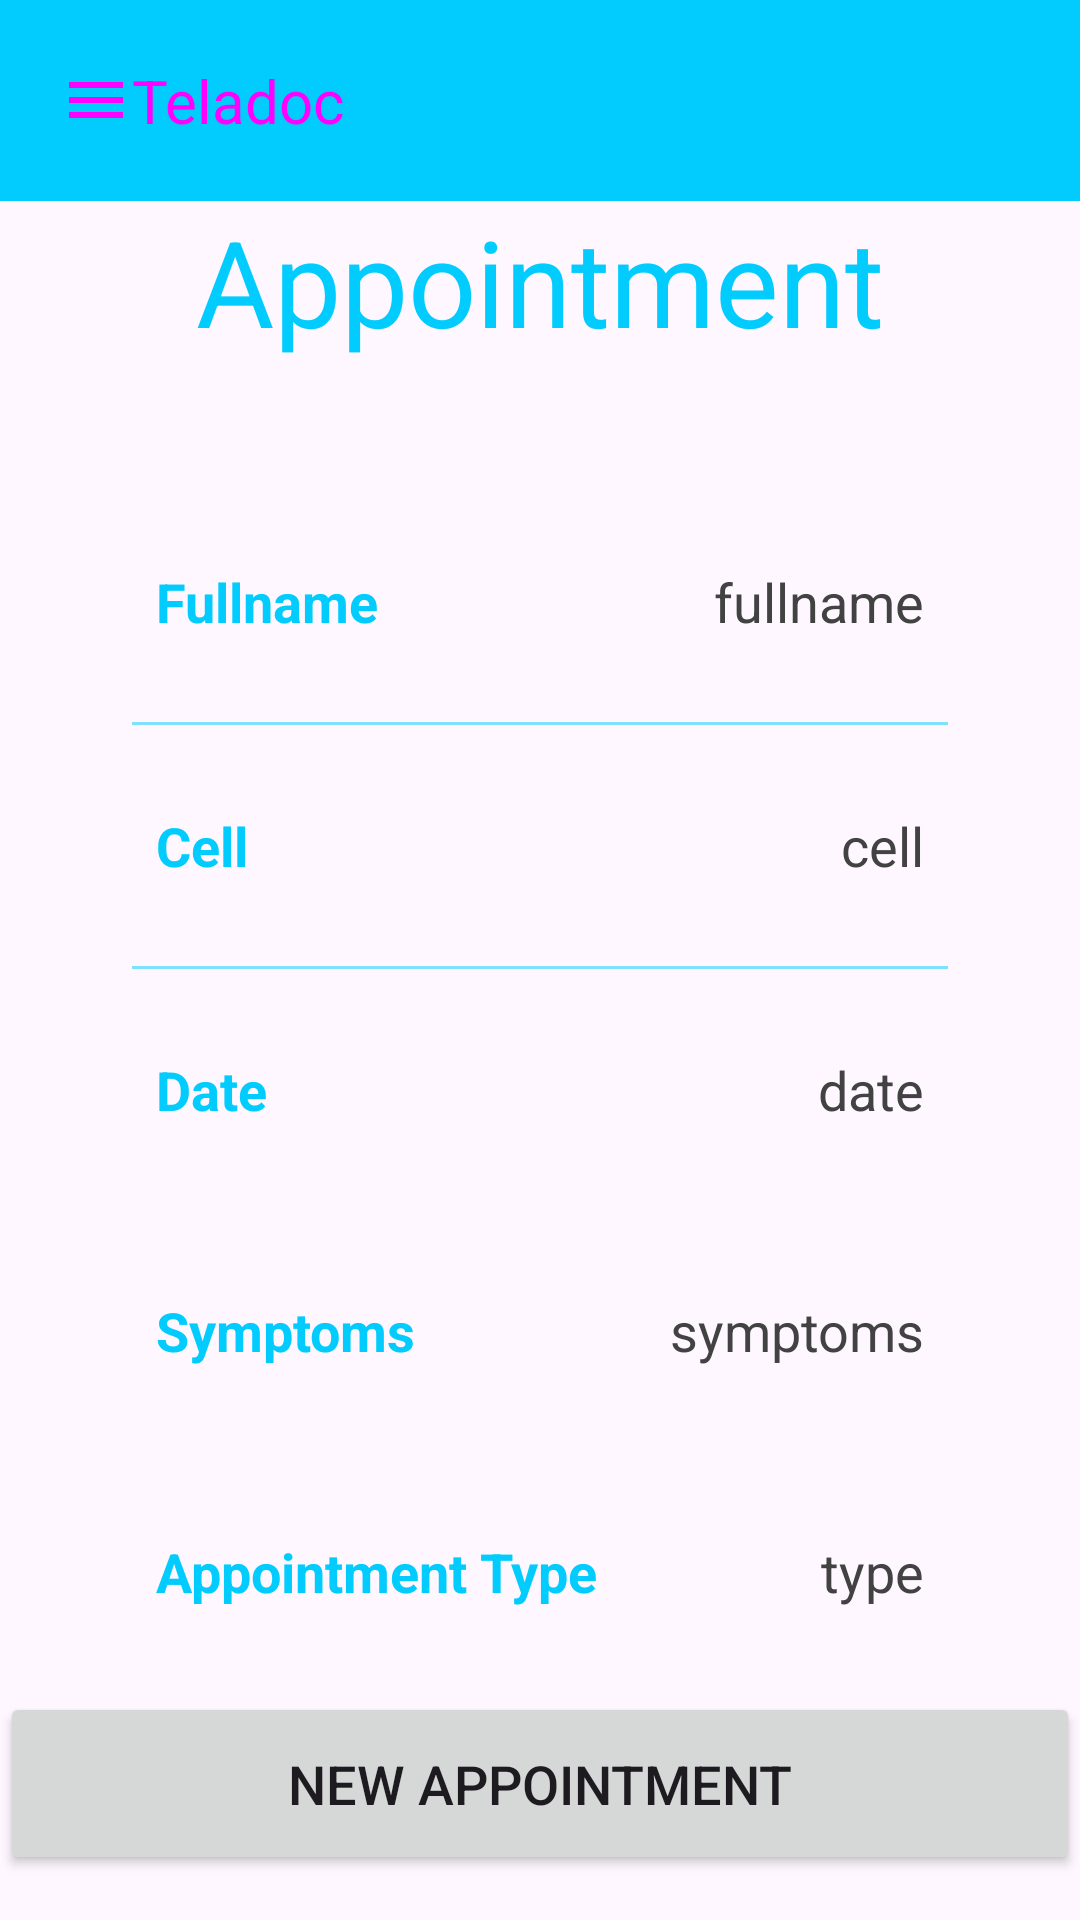

Icons on this 1080×1920 Android screen, each with the point to tap as (x,y):
menu: (96,100)
